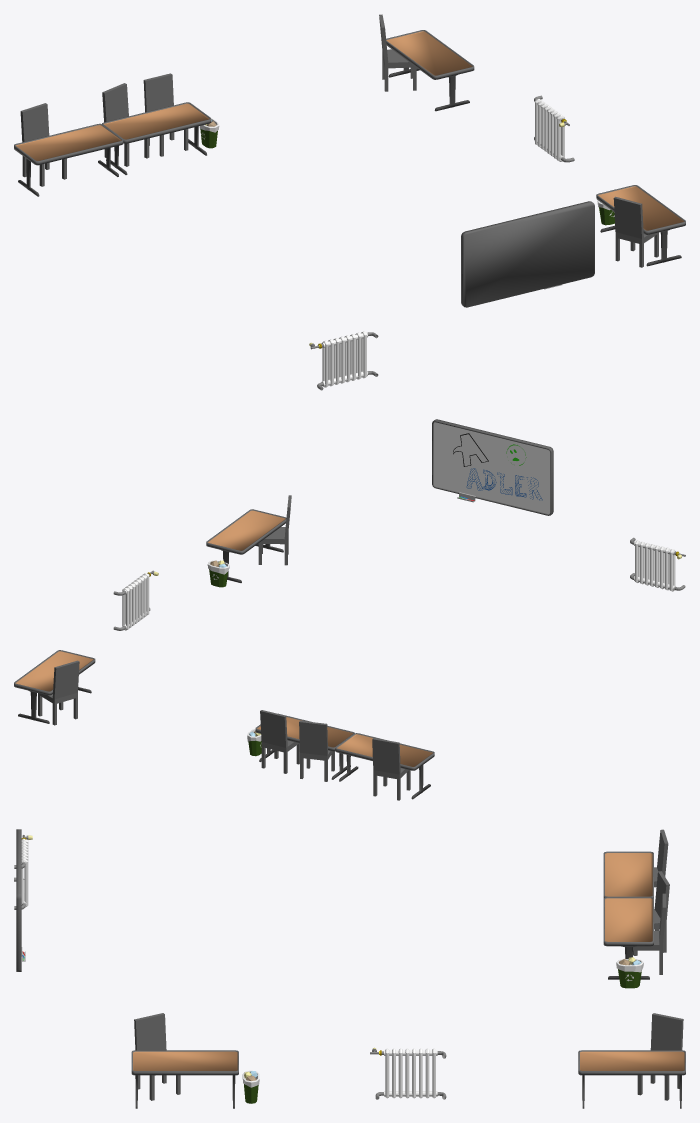
File: d2x3Shape Sampleroom - Deko.glb
3 renders of one model, top to bottom at view 1: azimuth 30°, elevation 25°; view 2: azimuth 150°, elevation 25°; view 3: azimuth 270°, elevation 25°, orthographic. The views are drawn at different scales.
Parts seen in each view (by area): view 1: Plane.016; view 2: Plane.016; view 3: Plane.016.
Boxes of the visible parts, box(x1,y1,x2,y2) form: Plane.016: box(14, 14, 685, 390); Plane.016: box(14, 419, 685, 800); Plane.016: box(14, 829, 685, 1108).
Bounding box in the file's own units: 8.04 × 2.36 × 10.31.
1 material, 1 textured.
